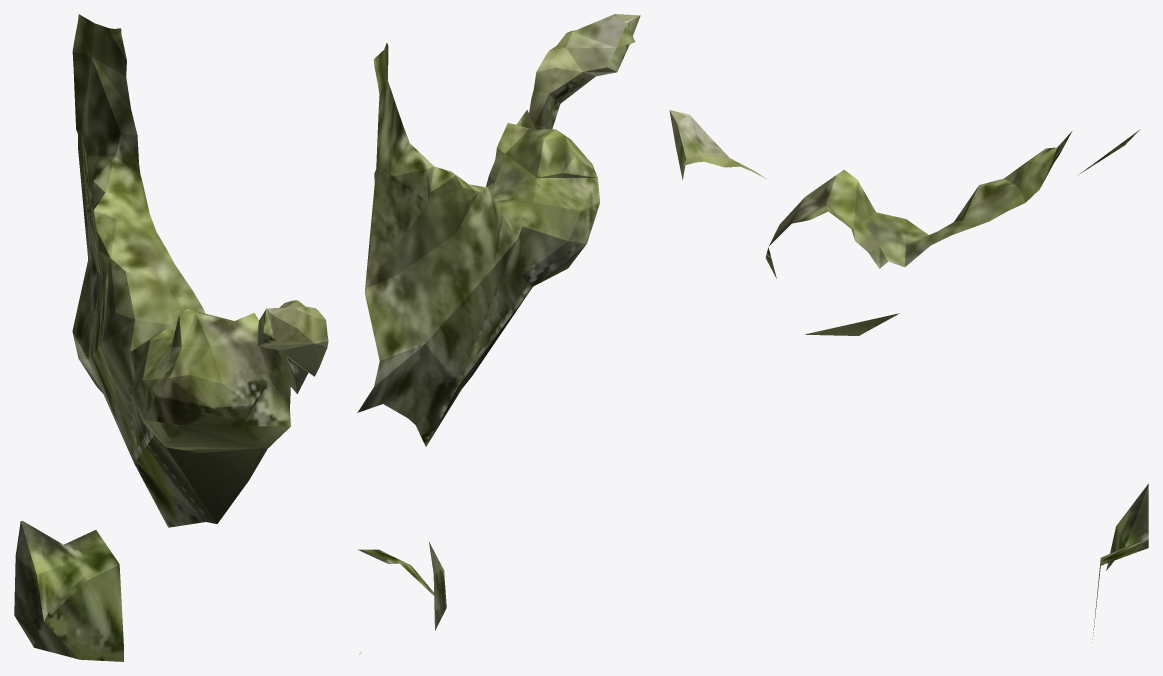
3 renders of one model, left to right at view 1: azimuth 30°, elevation 25°; view 2: azimuth 150°, elevation 25°; view 3: azimuth 270°, elevation 25°, orthographic. The views are drawn at different scales.
Size of the model in its own units: 0.3583 by 2.22 by 1.51.
Materials: 1 (1 with a texture image).
